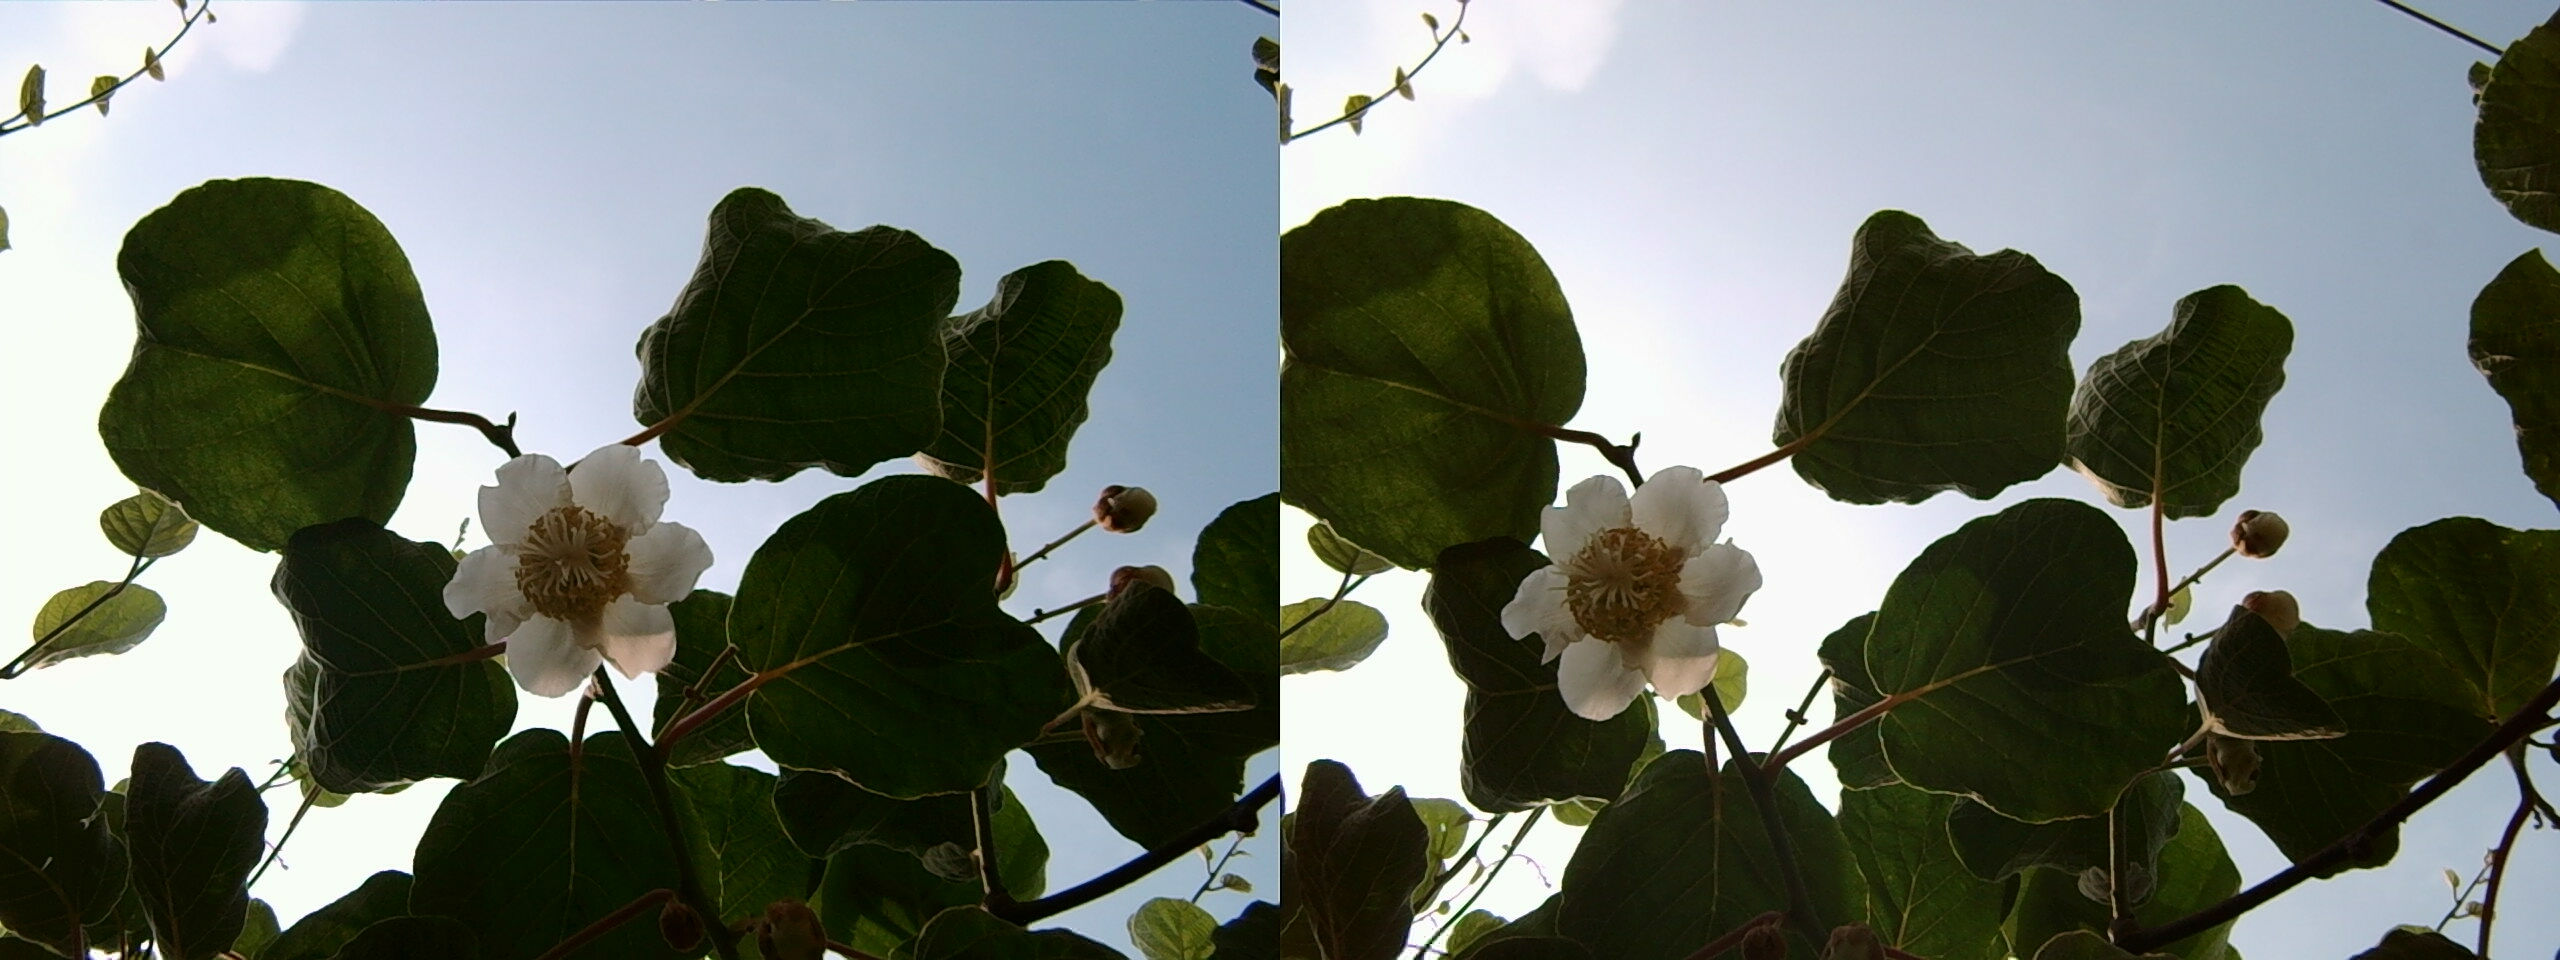flower: (449, 431, 700, 694), (1500, 451, 1752, 709)
